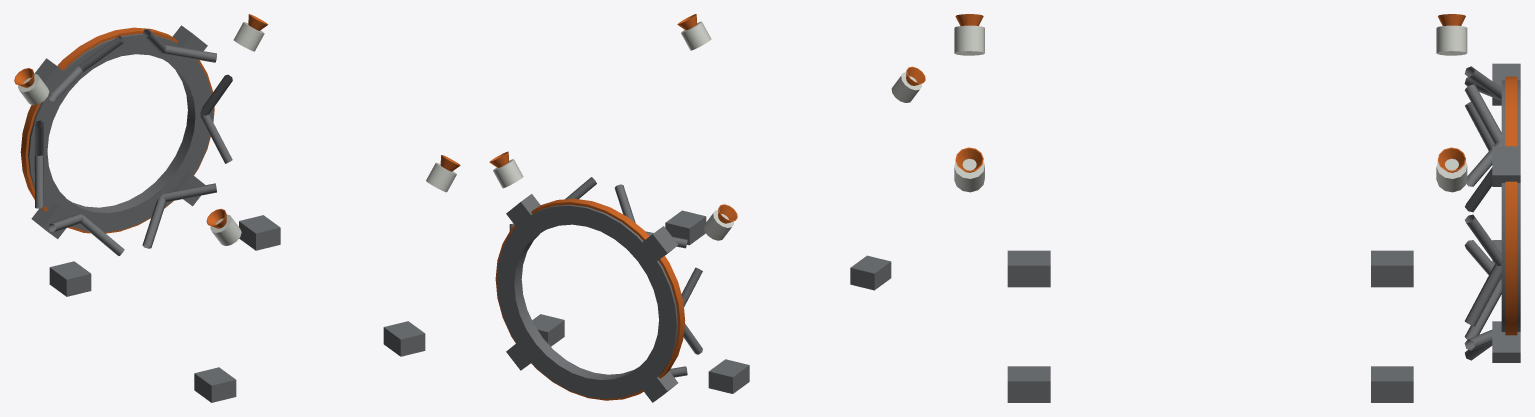
The model's file is p20_separation.obj.
The picture shows the model from 3 angles, left to right: view 1: azimuth 30°, elevation 25°; view 2: azimuth 150°, elevation 25°; view 3: azimuth 270°, elevation 25°; orthographic projection. The views are drawn at different scales.
Parts seen in each view (by area): view 1: p20_separation; view 2: p20_separation; view 3: p20_separation.
Boxes of the visible parts, x1,y1,x2,y2 form: p20_separation: (14, 14, 460, 402); p20_separation: (489, 14, 925, 402); p20_separation: (954, 14, 1520, 402).
Size of the model in its own units: 3.05 by 2.56 by 4.76.
